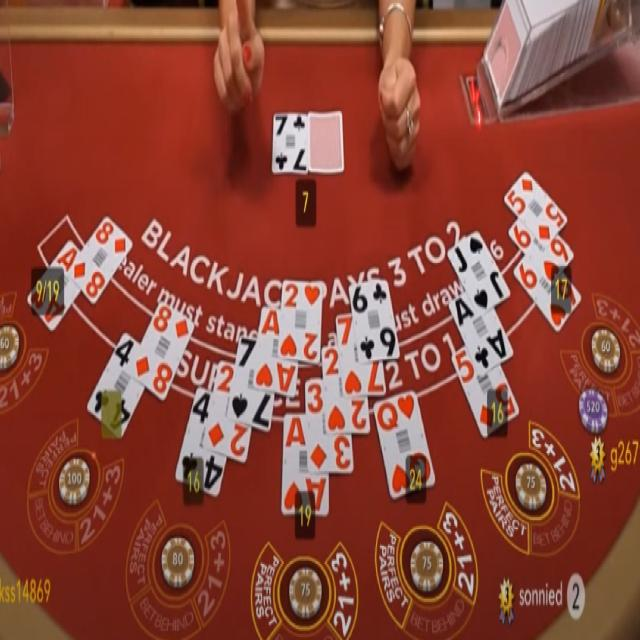Card-2: (205, 359, 251, 466), (322, 346, 370, 433), (279, 280, 322, 362)
Card-3: (305, 379, 353, 472)
Card-4: (87, 328, 145, 439), (175, 385, 227, 498)
Card-5: (452, 345, 520, 436), (504, 168, 568, 248)
Card-6: (513, 255, 581, 332), (508, 218, 574, 286), (349, 280, 399, 361)
Card-7: (229, 334, 274, 432), (335, 314, 385, 394), (272, 113, 307, 175)
Card-8: (129, 300, 194, 403), (70, 215, 133, 305)
Card-A: (449, 292, 513, 377), (27, 237, 80, 333), (281, 413, 329, 516), (254, 307, 298, 397)
Card-J: (447, 229, 511, 316)
Card-Q: (374, 388, 435, 498)
